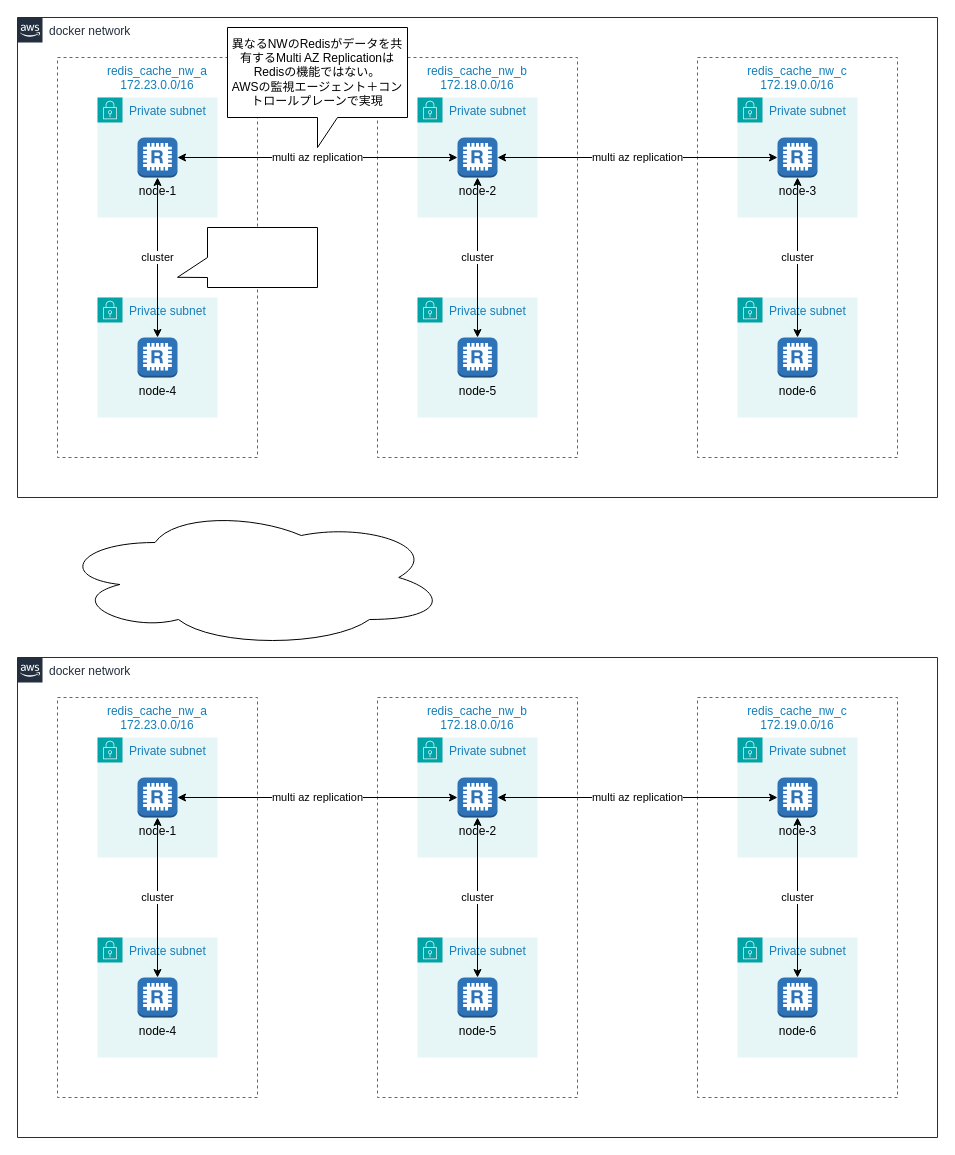
Image size: 955x1155. Some labels were removed from this diagram. The centre of each missing label's shape, as x and y in pixels:
同一NW内の分散管理はRedisの機能: point 247,257
疑似的にやるならRedisに3つのNICを付ける？: point 252,577
